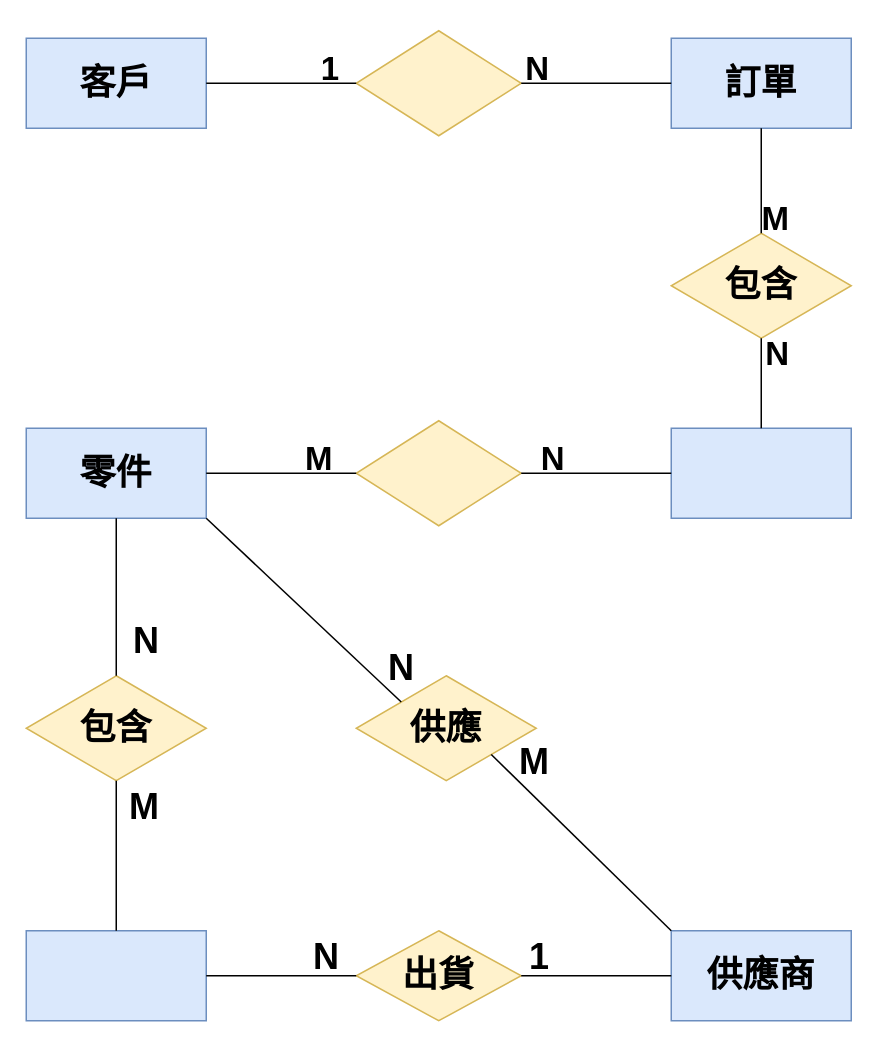
This 878x1047 diagram has some shape labels left out. The centre of each missing label's shape, as x and y in pixels:
"出貨單" belongs at point (115, 975).
"產品" belongs at point (760, 472).
"組成" belongs at point (438, 472).
"訂購" belongs at point (438, 82).
